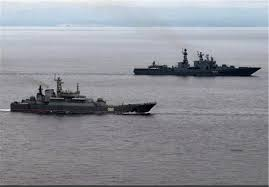tau_muctieu: (5, 78, 157, 120), (131, 45, 261, 81)
